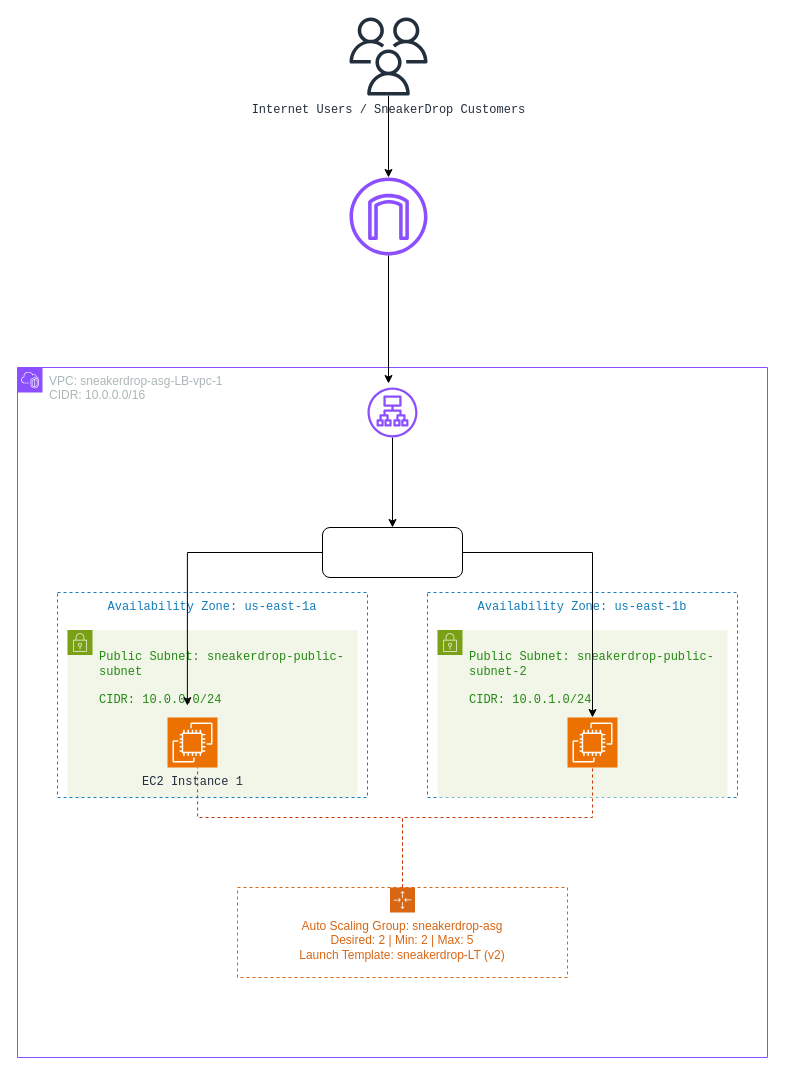
Some shapes in this 785 by 1075 pixel diagram are drawn without their labels. Each missing label, with the centre of its shape:
Application Load Balancer sneakerdrop-LB HTTP: Port 80: [392,412]
EC2 Instance 2: [592,742]
Internet Gateway sneakerdrop-igw: [388,216]
Target Group: sneakerdrop-TG HTTP: Port 80: [392,552]
